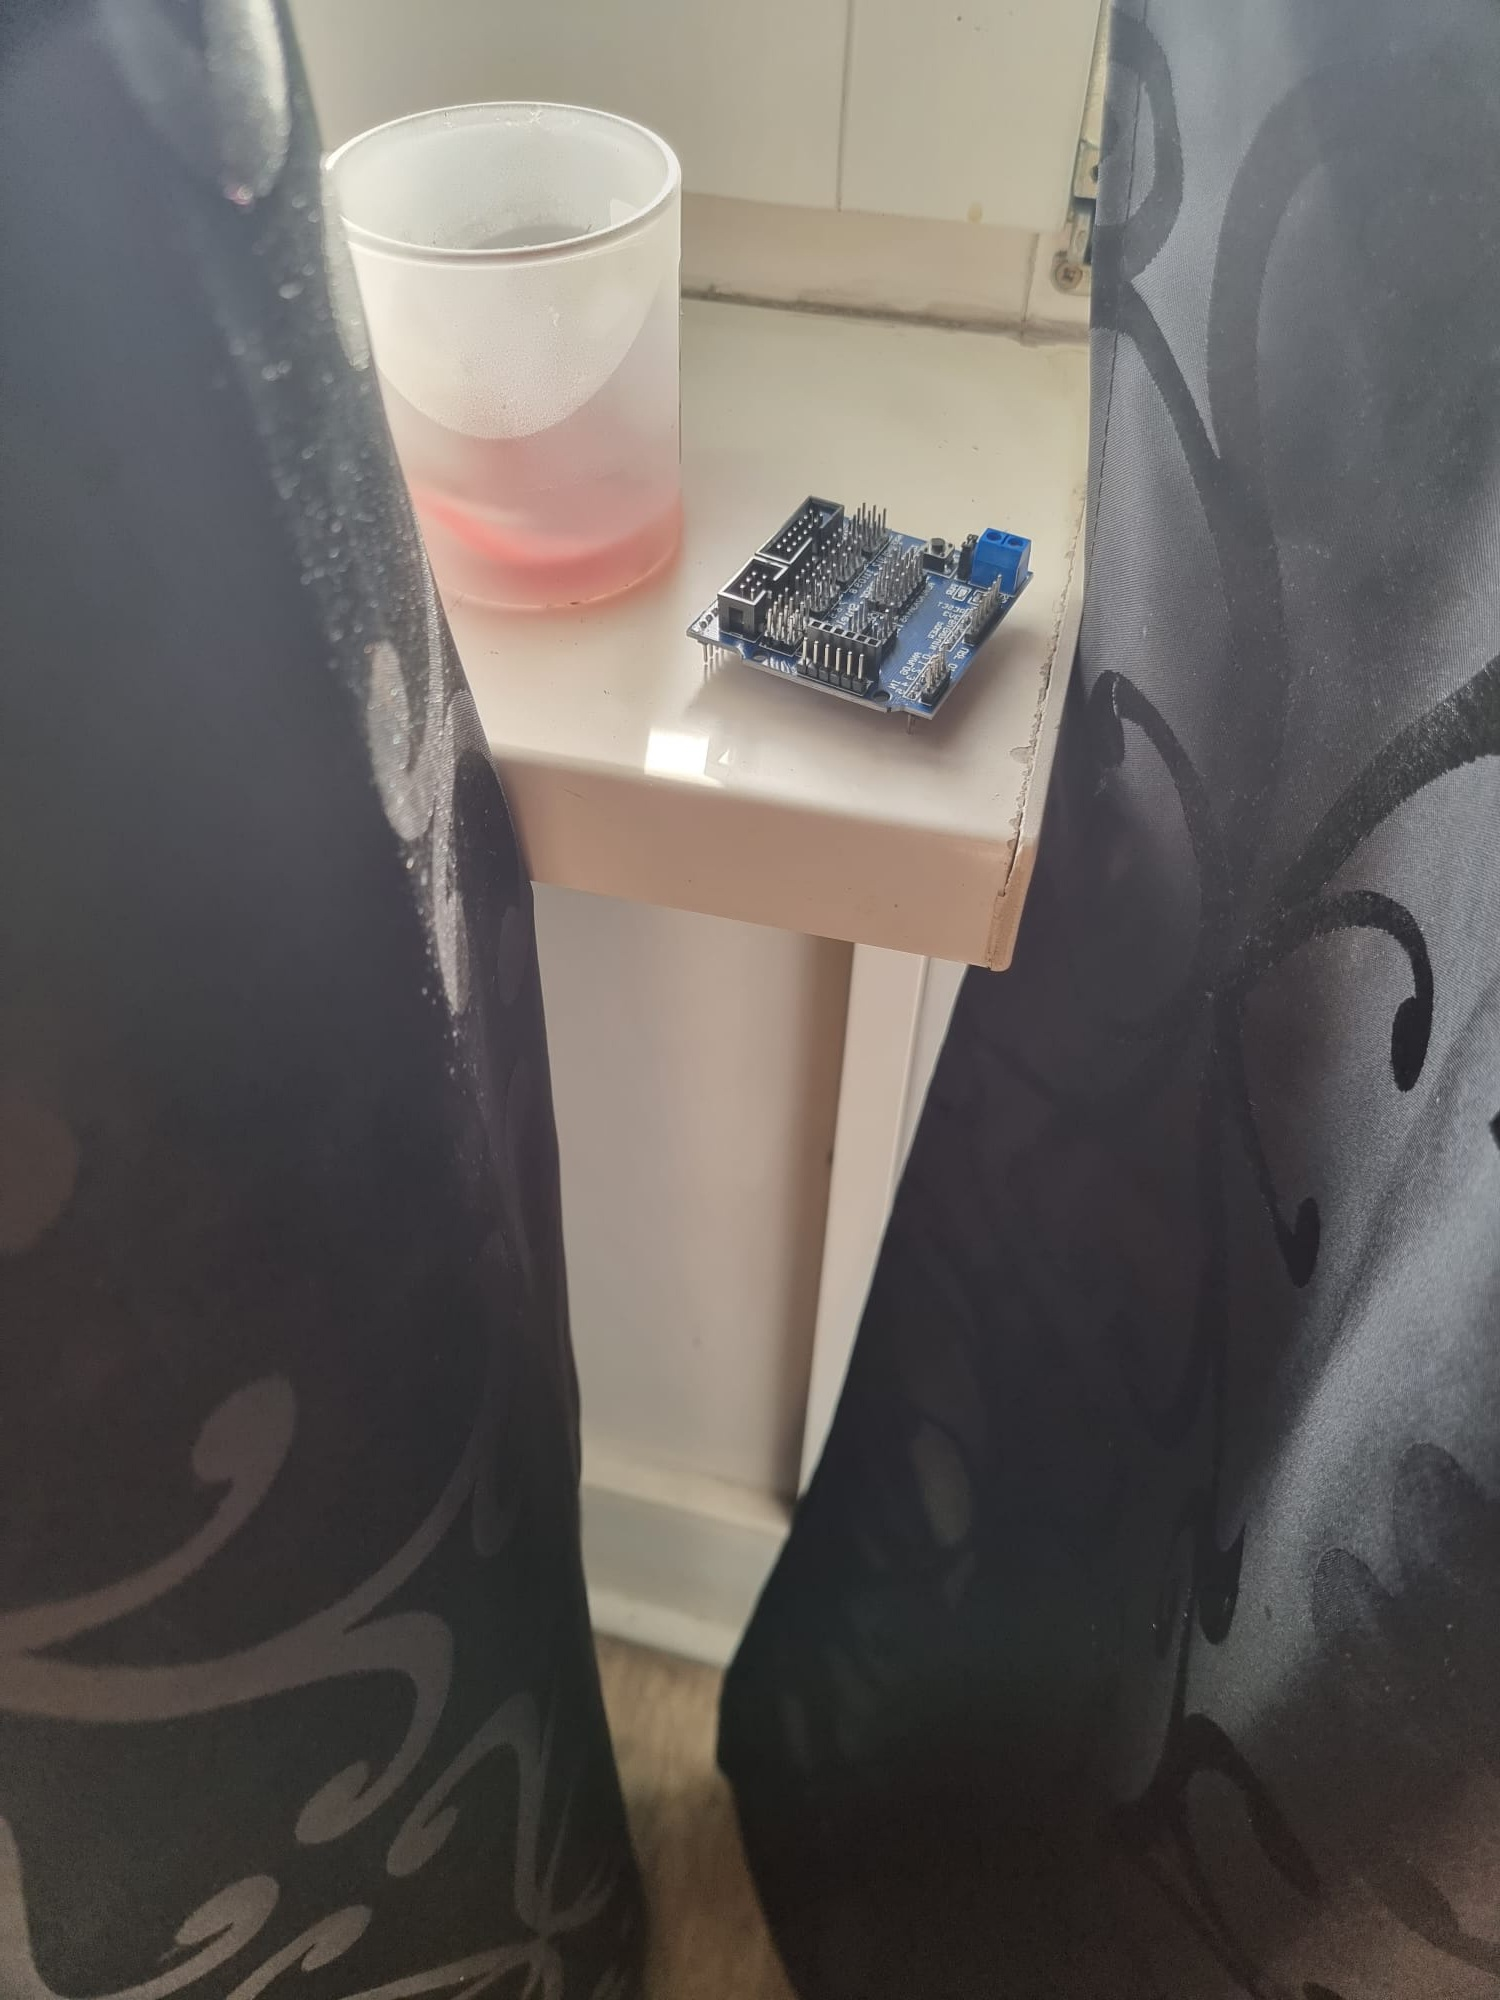5V EXPANSION: (684, 498, 1045, 735)
